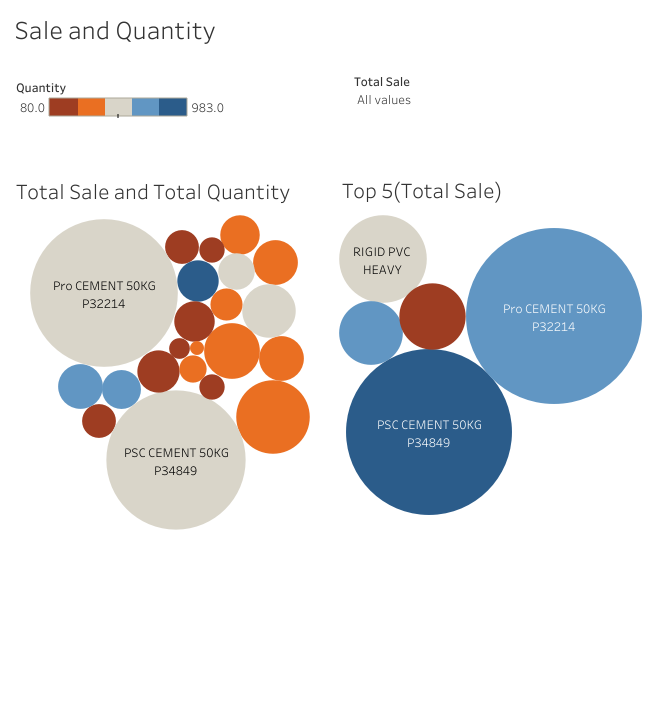

The dashboard page shown, as its layout file describes it:
{"tool":"tableau","page":{"name":"Sale And Quantity","canvas":[650,860],"ordinal":0},"visuals":[{"type":"worksheet","box":[0,0,650,860]},{"type":"worksheet","param":"vert","box":[8,10.9,634,838.3]},{"type":"worksheet","box":[8,10.9,634,57.1]},{"type":"worksheet","box":[8,67.9,634,781.2]},{"type":"worksheet","box":[8,67.9,634,781.2]},{"type":"worksheet","title":"Total Sale and Total Quantity","mark":"Circle","param":"[federated.1lti0yi1cxf41814yq8h81mmb09j].[usr:Calculation_750693790482178048:qk]","box":[355,85.6,207,89.7]},{"type":"worksheet","title":"Total Sale and Total Quantity","mark":"Circle","param":"[federated.1lti0yi1cxf41814yq8h81mmb09j].[sum:QUANTITY:qk]","box":[16,88.3,214,103.3]},{"type":"worksheet","title":"Top 5(Total Sale)","mark":"Circle","box":[339,203.8,305,436.1]},{"type":"worksheet","title":"Total Sale and Total Quantity","mark":"Circle","box":[12,205.2,317,604.6]}]}

Visuals, with their boxes on the page's 650x860 design canvas (x1, y1, x2, y2). These are canvas units, not pixel positions in the 647x717 screenshot, which may show the page scaled, cropped or inside an application window:
worksheet: x1=0 y1=0 x2=650 y2=860
worksheet: x1=8 y1=11 x2=642 y2=849
worksheet: x1=8 y1=11 x2=642 y2=68
worksheet: x1=8 y1=68 x2=642 y2=849
worksheet: x1=8 y1=68 x2=642 y2=849
"Total Sale and Total Quantity" worksheet (Circle marks): x1=355 y1=86 x2=562 y2=175
"Total Sale and Total Quantity" worksheet (Circle marks): x1=16 y1=88 x2=230 y2=192
"Top 5(Total Sale)" worksheet (Circle marks): x1=339 y1=204 x2=644 y2=640
"Total Sale and Total Quantity" worksheet (Circle marks): x1=12 y1=205 x2=329 y2=810
